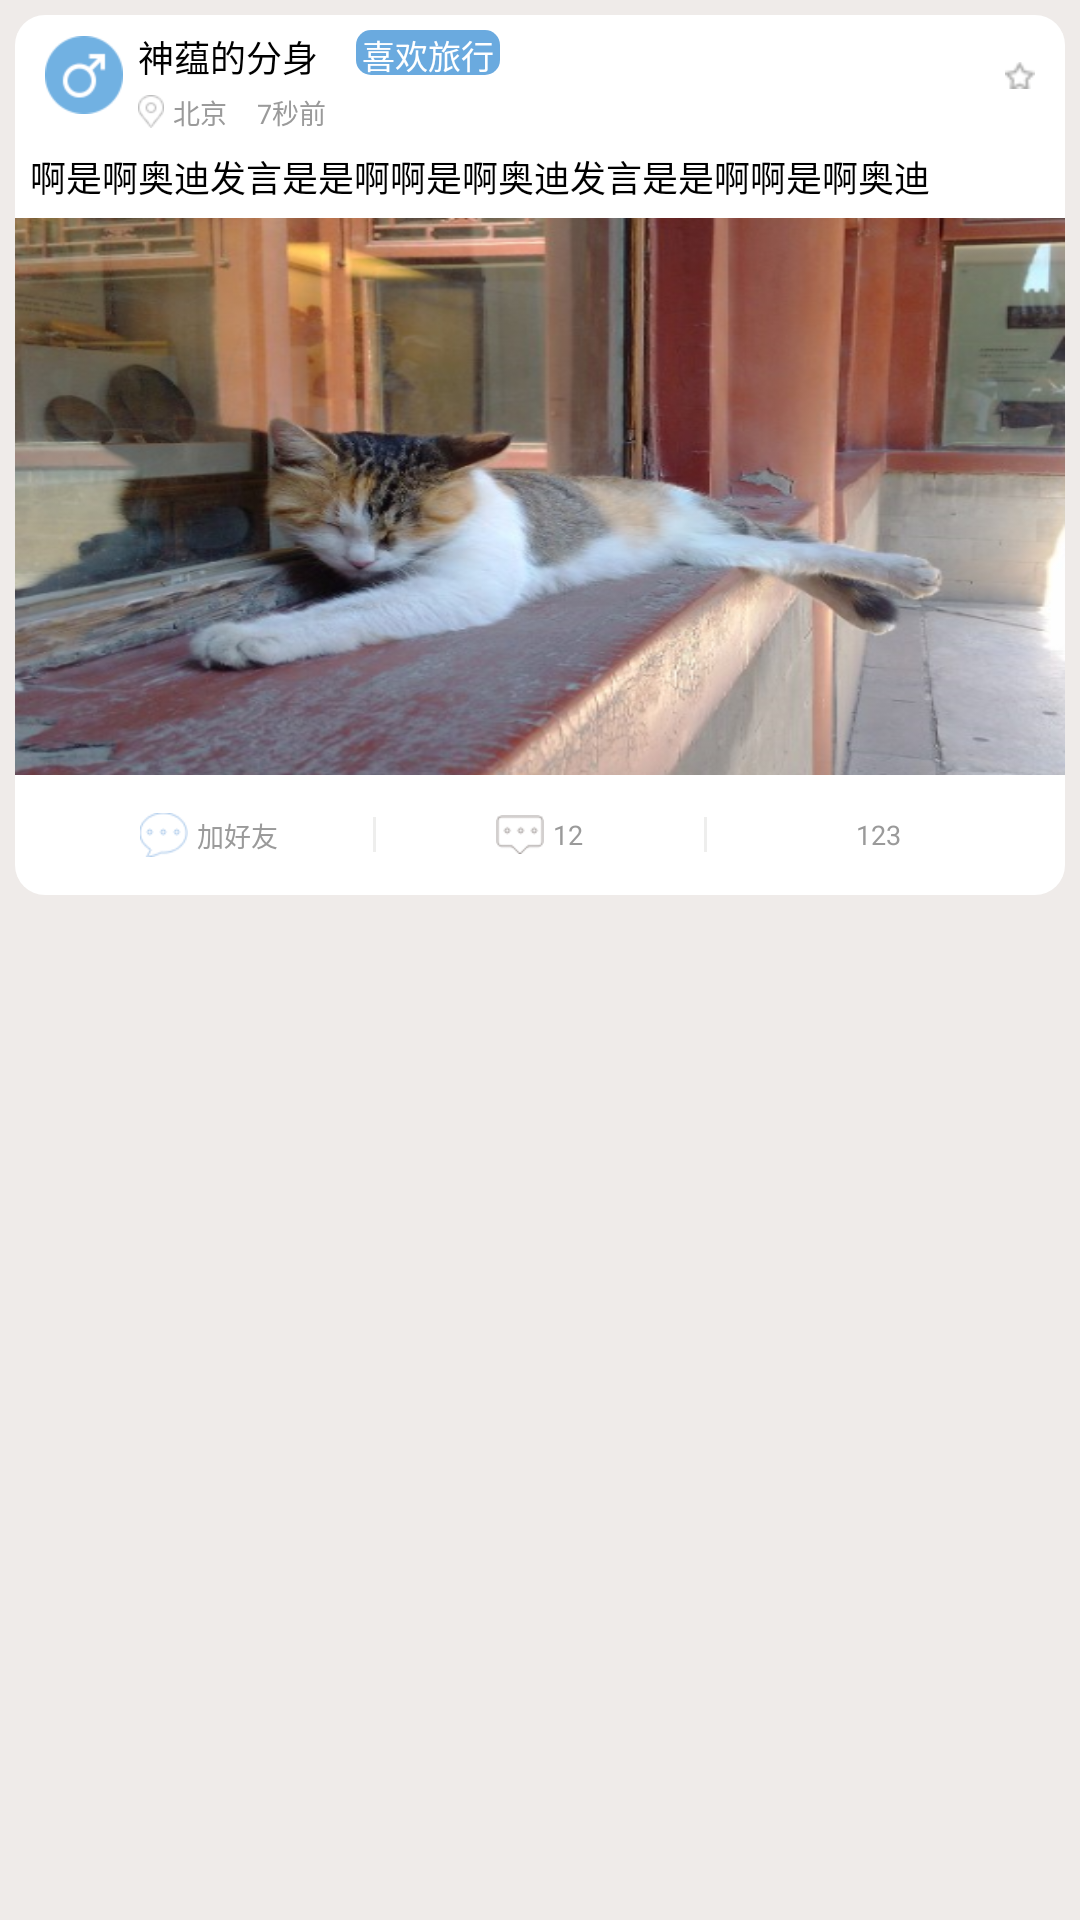

Where icons sit on this 1080*1920 app screen, as (x1, y1, x2, y2):
boy: (45, 36, 123, 114)
location: (138, 95, 164, 128)
message: (140, 813, 188, 857)
reply: (496, 815, 544, 854)
xingxing: (1005, 62, 1035, 89)
